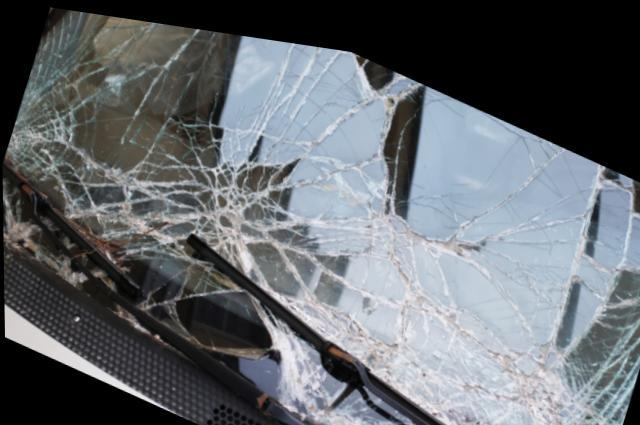glass shatter: (2, 7, 640, 425)
